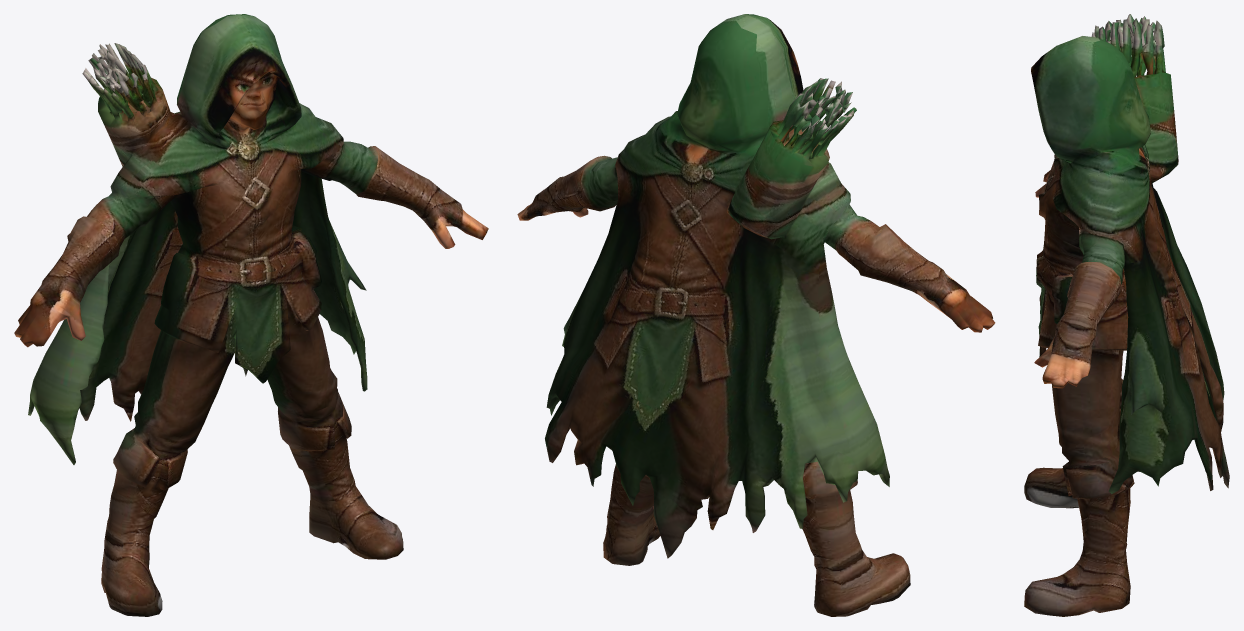
The model's file is archer.glb.
3 views of the same model, side by side, from view 1: azimuth 30°, elevation 25°; view 2: azimuth 150°, elevation 25°; view 3: azimuth 270°, elevation 25° (orthographic). The views are drawn at different scales.
Parts seen in each view (by area): view 1: geometry_0; view 2: geometry_0; view 3: geometry_0.
Part boxes in pixels (x1,y1,x2,y2): geometry_0: [14, 14, 488, 616]; geometry_0: [517, 14, 995, 616]; geometry_0: [1024, 14, 1229, 616].
Bounding box in the file's own units: 1.55 × 1.75 × 0.6338.
Materials: 1 (1 with a texture image).
